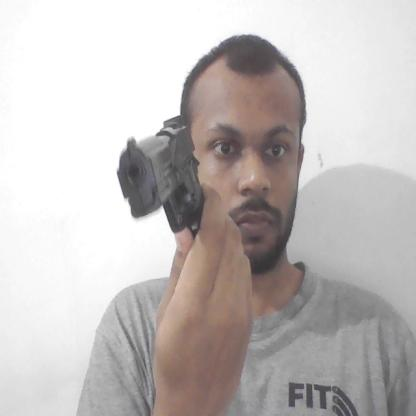handgun: (117, 113, 206, 238)
